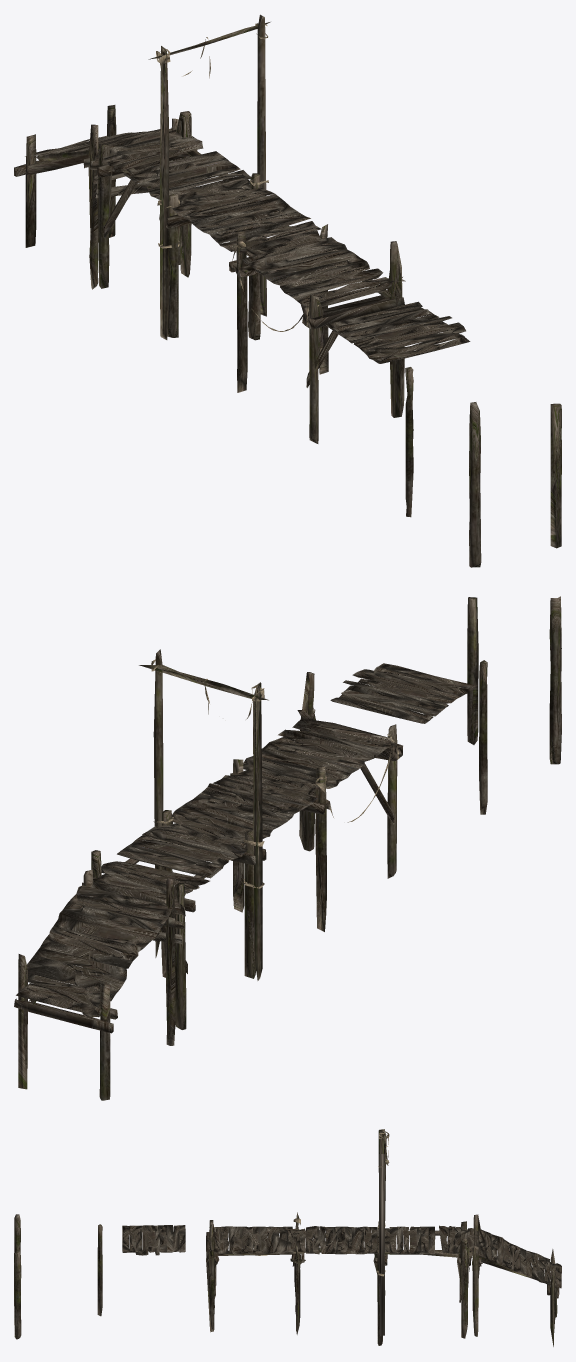
Rendered from modular_wooden_pier_lod2.glb.
3 views of the same model, one above another, from view 1: azimuth 30°, elevation 25°; view 2: azimuth 150°, elevation 25°; view 3: azimuth 270°, elevation 25° (orthographic). The views are drawn at different scales.
Visible parts, largest first — view 1: modular_wooden_pier_section_01, modular_wooden_pier_section_03, modular_wooden_pier_section_02, modular_wooden_pier_planks, modular_wooden_pier_section_04, modular_wooden_pier_section_05, modular_wooden_pier_poles; view 2: modular_wooden_pier_section_04, modular_wooden_pier_section_01, modular_wooden_pier_section_03, modular_wooden_pier_section_02, modular_wooden_pier_section_05, modular_wooden_pier_poles, modular_wooden_pier_planks; view 3: modular_wooden_pier_section_01, modular_wooden_pier_section_04, modular_wooden_pier_section_03, modular_wooden_pier_section_02, modular_wooden_pier_planks, modular_wooden_pier_section_05, modular_wooden_pier_poles.
Boxes of the visible parts, x1,y1,x2,y2 form: modular_wooden_pier_section_01: [229, 224, 405, 443]; modular_wooden_pier_section_03: [90, 111, 250, 288]; modular_wooden_pier_section_02: [159, 173, 321, 340]; modular_wooden_pier_planks: [326, 301, 470, 363]; modular_wooden_pier_section_04: [14, 105, 180, 289]; modular_wooden_pier_section_05: [148, 14, 270, 339]; modular_wooden_pier_poles: [405, 367, 561, 567]; modular_wooden_pier_section_04: [14, 869, 175, 1100]; modular_wooden_pier_section_01: [230, 672, 402, 931]; modular_wooden_pier_section_03: [82, 826, 247, 1029]; modular_wooden_pier_section_02: [153, 775, 317, 978]; modular_wooden_pier_section_05: [139, 649, 268, 980]; modular_wooden_pier_poles: [467, 596, 561, 814]; modular_wooden_pier_planks: [330, 663, 476, 723]; modular_wooden_pier_section_01: [206, 1212, 305, 1334]; modular_wooden_pier_section_04: [472, 1214, 561, 1346]; modular_wooden_pier_section_03: [385, 1221, 473, 1338]; modular_wooden_pier_section_02: [294, 1221, 389, 1345]; modular_wooden_pier_planks: [122, 1225, 185, 1255]; modular_wooden_pier_section_05: [377, 1129, 389, 1336]; modular_wooden_pier_poles: [14, 1214, 102, 1339].
Size of the model in its own units: 3.08 by 7.49 by 19.02.
2 materials, 2 textured.
